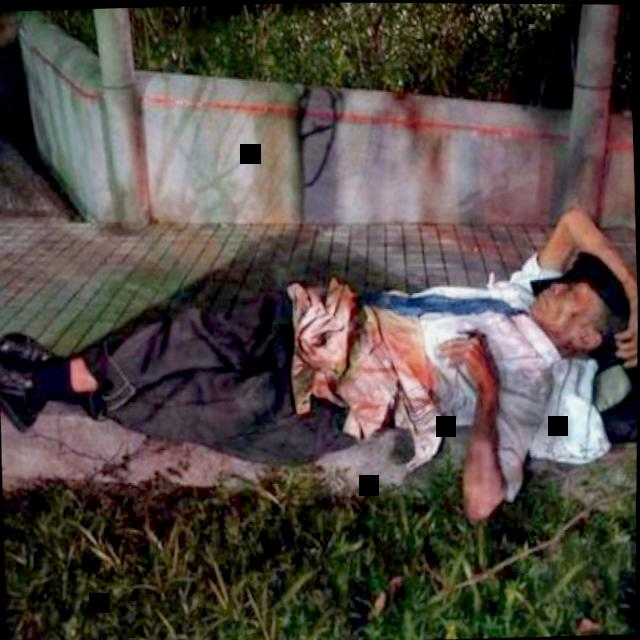Fall-Detected: (0, 196, 639, 536)
